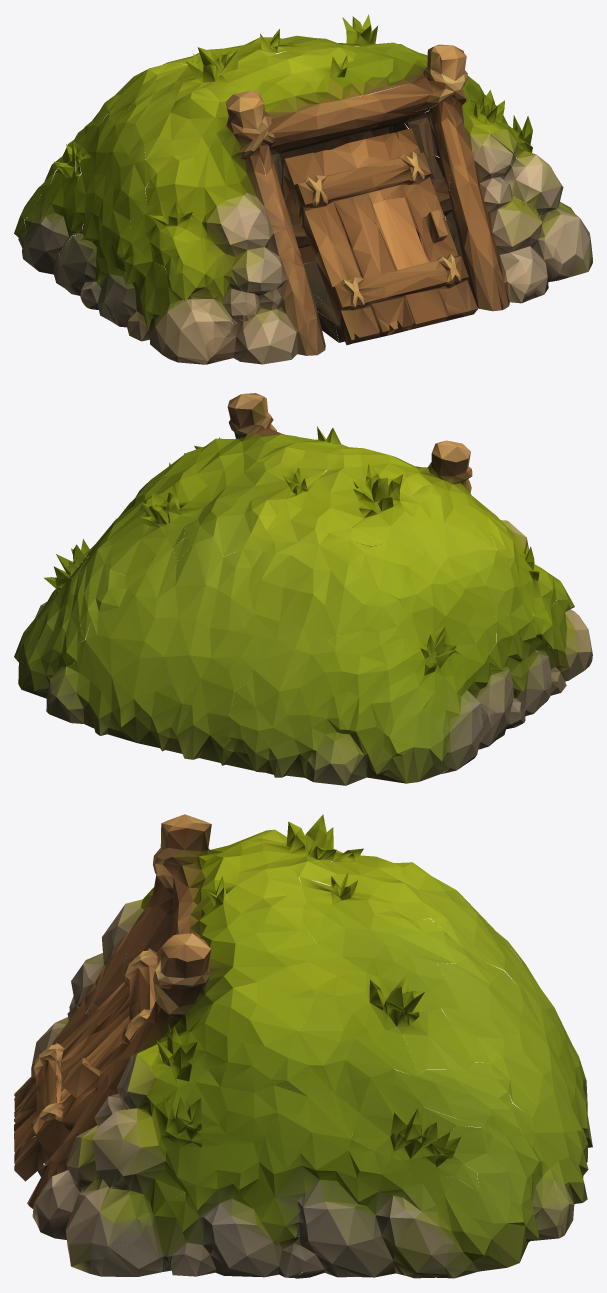
File: building-coolStore.glb
3 renders of one model, top to bottom at view 1: azimuth 30°, elevation 25°; view 2: azimuth 150°, elevation 25°; view 3: azimuth 270°, elevation 25°, orthographic. The views are drawn at different scales.
Visible parts, largest first — view 1: 0_coolStore; view 2: 0_coolStore; view 3: 0_coolStore.
Boxes of the visible parts, bbox=[...] form: 0_coolStore: bbox=[14, 14, 592, 364]; 0_coolStore: bbox=[14, 393, 592, 785]; 0_coolStore: bbox=[14, 814, 592, 1278].
Bounding box in the file's own units: 1.92 × 0.9263 × 1.76.
